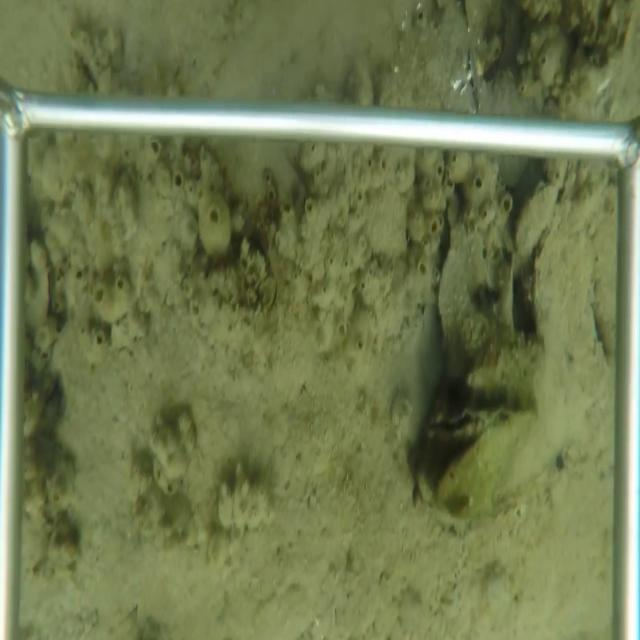Oyster-Closed: (527, 161, 611, 349)
Oyster-Indeterminate: (437, 179, 494, 385)
Oyster-Open: (420, 404, 536, 443)
